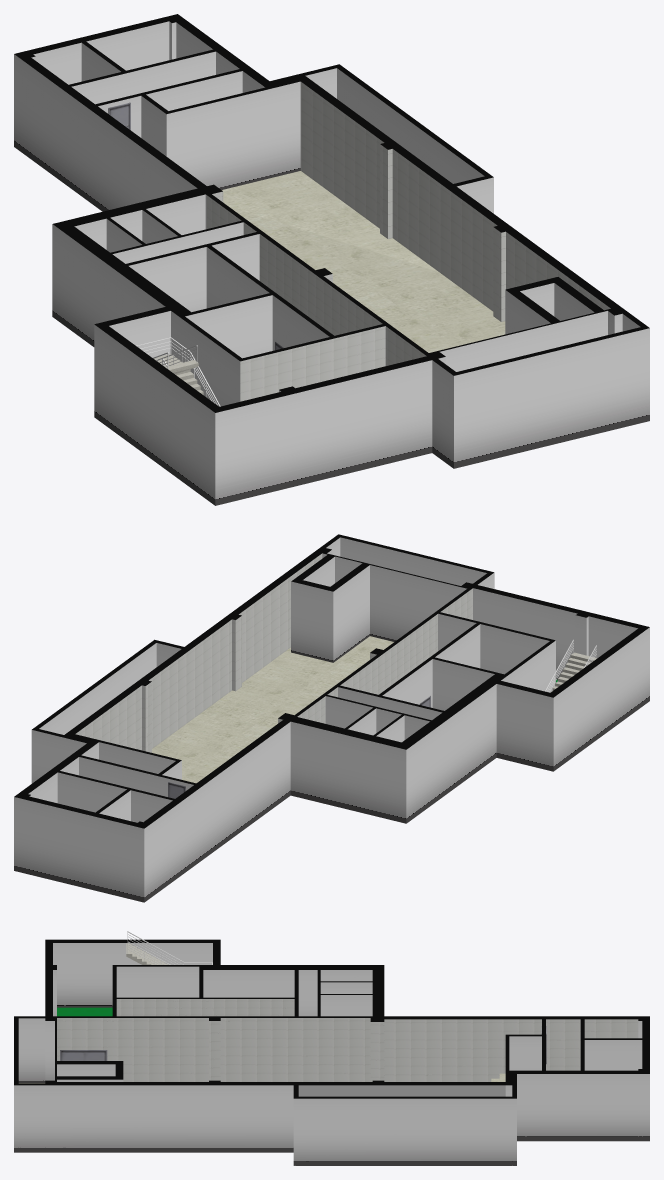
File: Admin-B1.glb
3 renders of one model, top to bottom at view 1: azimuth 30°, elevation 25°; view 2: azimuth 150°, elevation 25°; view 3: azimuth 270°, elevation 25°, orthographic. The views are drawn at different scales.
Visible parts, largest first — view 1: b1, Line2280, Line2334, UTypeStair034; view 2: b1, Line2280, UTypeStair034; view 3: b1, Line2280, Line2334, Box2992, UTypeStair034.
Boxes of the visible parts, box(x1,y1,x2,y2) form: b1: box(14, 14, 649, 505); Line2280: box(222, 171, 505, 352); Line2334: box(136, 337, 220, 406); UTypeStair034: box(154, 354, 203, 394); b1: box(14, 534, 649, 902); Line2280: box(152, 636, 557, 783); UTypeStair034: box(550, 652, 597, 692); b1: box(14, 939, 649, 1165); Line2280: box(19, 1007, 505, 1083); Line2334: box(127, 931, 212, 964); Box2992: box(60, 1026, 546, 1064); UTypeStair034: box(126, 943, 168, 964).
Size of the model in its own units: 19.53 by 4.57 by 33.03.
Materials: 11 (8 with a texture image).
